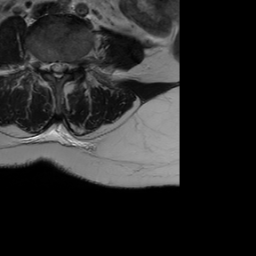CCS_stenosis: (54, 54, 62, 85)
LFS_normal: (69, 54, 76, 77)
LLS_stenosis: (62, 54, 69, 80)
RFS_normal: (39, 52, 47, 80)
RLS_normal: (47, 55, 54, 81)
